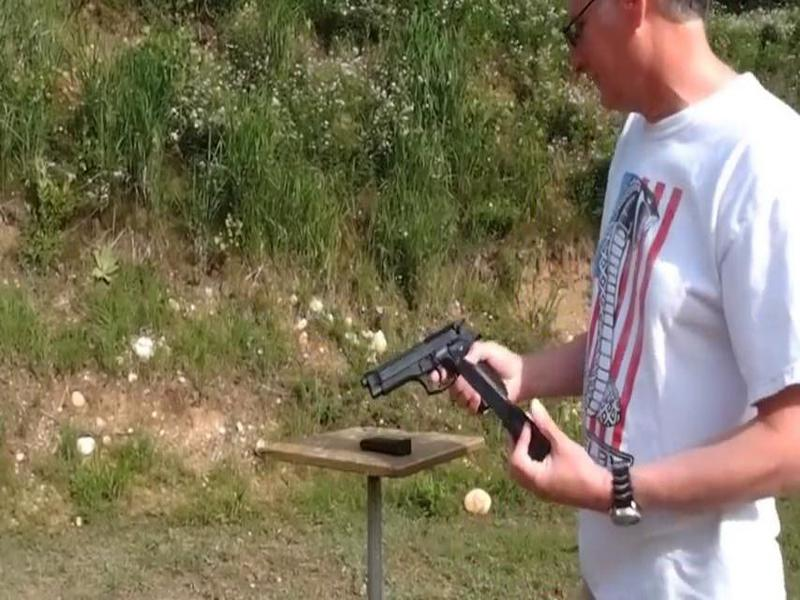Pistola: (370, 294, 509, 431)
